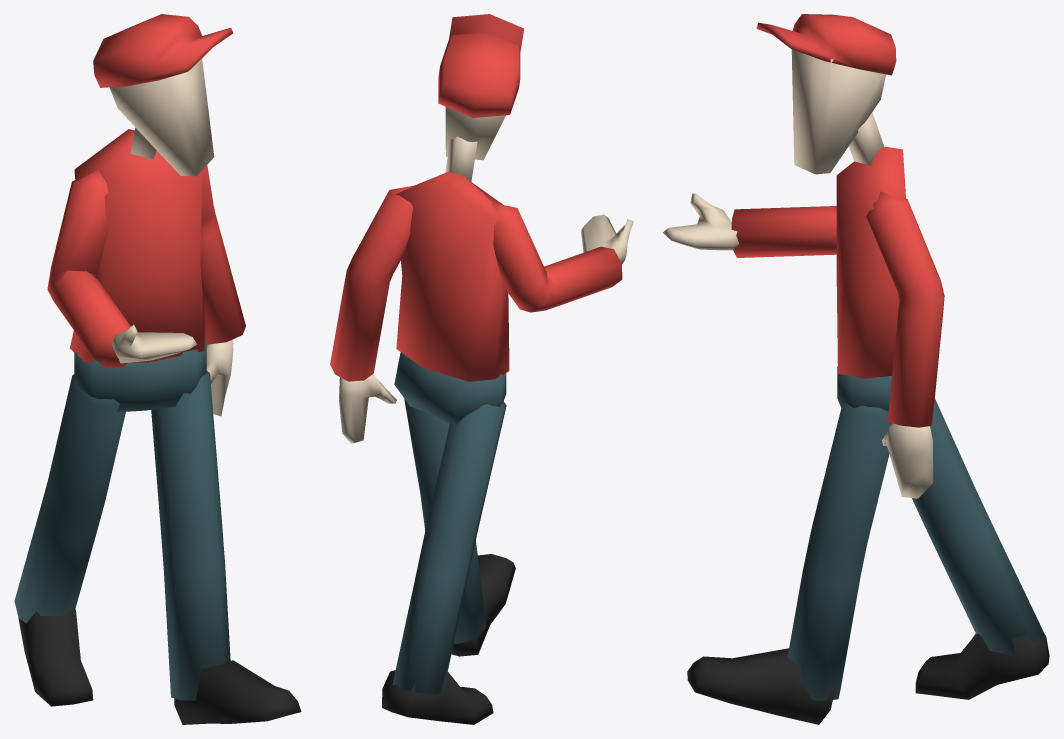
File: mesh_VisitorA.fbx
The picture shows the model from 3 angles, left to right: view 1: azimuth 30°, elevation 25°; view 2: azimuth 150°, elevation 25°; view 3: azimuth 270°, elevation 25°; orthographic projection. The views are drawn at different scales.
Visible parts, largest first — view 1: VisitorA; view 2: VisitorA; view 3: VisitorA.
Boxes of the visible parts, box(x1,y1,x2,y2) form: VisitorA: box(14, 14, 301, 724); VisitorA: box(330, 14, 633, 724); VisitorA: box(662, 14, 1049, 724).
Size of the model in its own units: 34.87 by 99.73 by 50.75.
